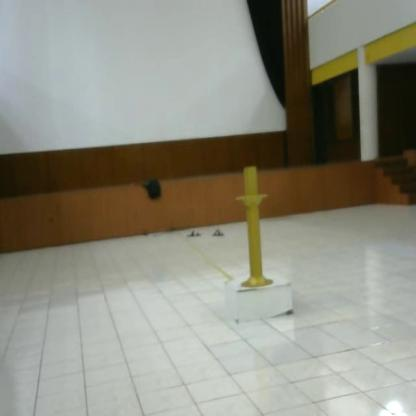pole: (231, 164, 277, 293)
